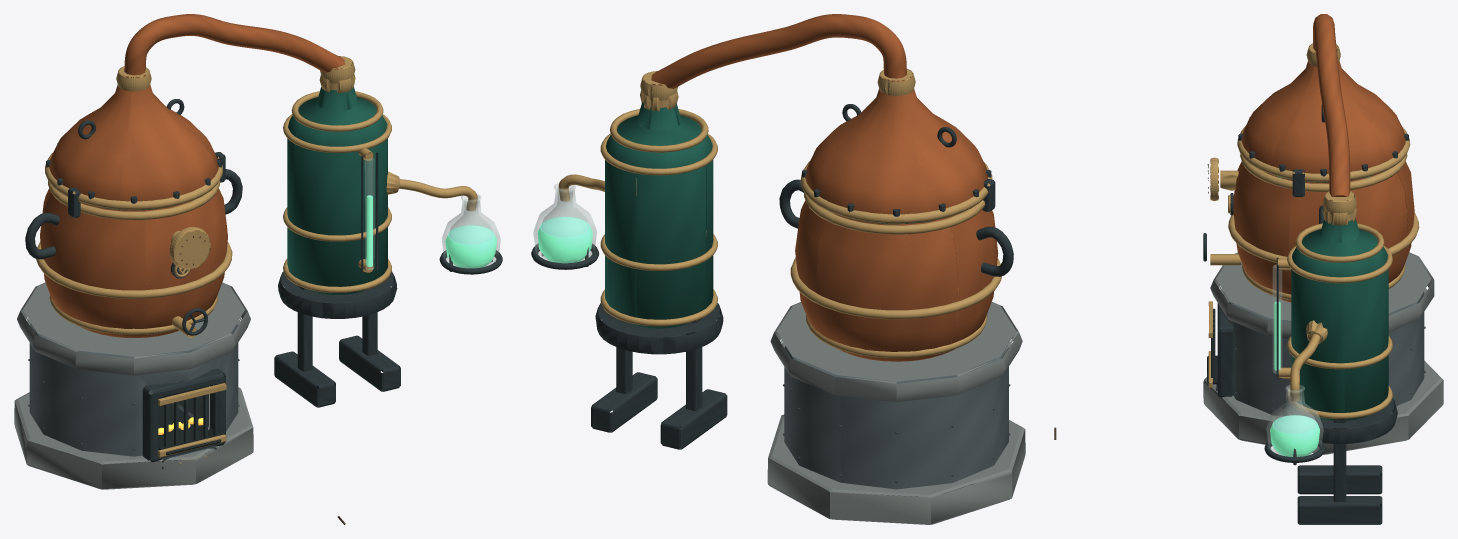
Rendered from alembic.glb.
3 views of the same model, side by side, from view 1: azimuth 30°, elevation 25°; view 2: azimuth 150°, elevation 25°; view 3: azimuth 270°, elevation 25° (orthographic). The views are drawn at different scales.
Parts seen in each view (by area): view 1: Widows Salt Alembic; view 2: Widows Salt Alembic; view 3: Widows Salt Alembic.
Part boxes in pixels (x1=…): Widows Salt Alembic: x1=14, y1=14, x2=502, y2=524; Widows Salt Alembic: x1=531, y1=14, x2=1025, y2=524; Widows Salt Alembic: x1=1054, y1=14, x2=1443, y2=524.
Size of the model in its own units: 4.1 by 3.55 by 3.12.
13 materials, 4 textured.
